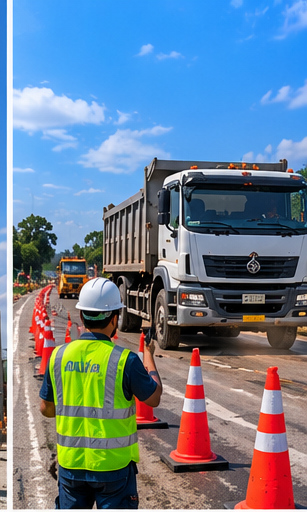hardhat: (72, 279, 123, 311)
person: (45, 274, 149, 507)
safety_cone: (231, 364, 302, 505), (169, 342, 230, 471), (40, 323, 55, 384), (37, 314, 50, 357), (31, 307, 40, 351), (35, 293, 46, 328), (64, 312, 74, 347)
safety_vest: (55, 344, 135, 475)
truck: (81, 151, 305, 346)
